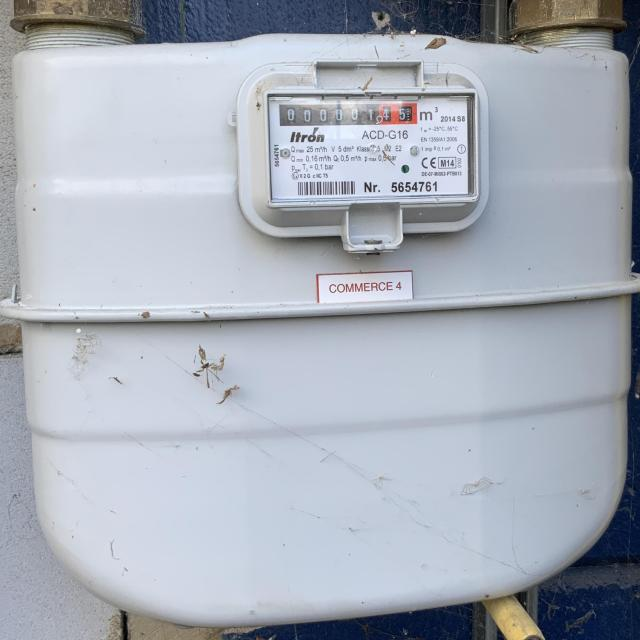gaz_meter: (266, 92, 478, 197)
indication: (278, 101, 416, 126)
